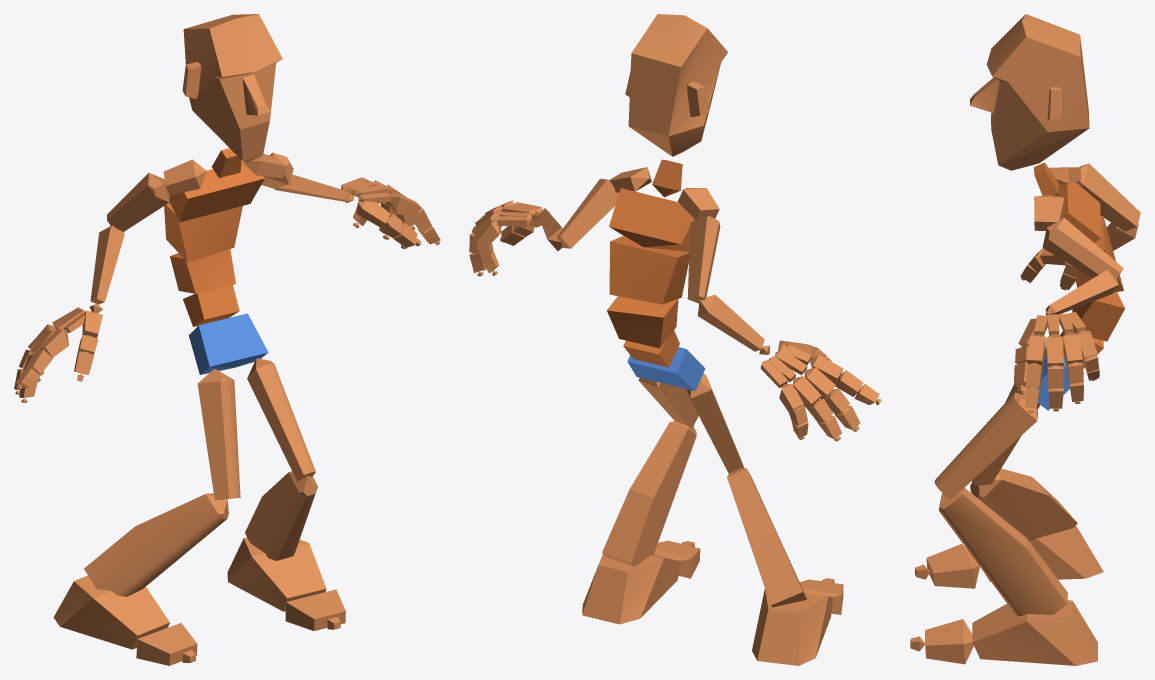
3 renders of one model, left to right at view 1: azimuth 30°, elevation 25°; view 2: azimuth 150°, elevation 25°; view 3: azimuth 270°, elevation 25°, orthographic. The views are drawn at different scales.
Parts seen in each view (by area): view 1: BOPED_Head, BOPED_R_leg, BOPED_R_foot, BOPED_R_foot01, BOPED_R_legup, BOPED_L_leg, BOPED_L_legup, Bone01, Bone04, Bone05, Bone03, BOPED_R_arm_upper (+8 smaller); view 2: BOPED_Head, BOPED_L_leg, BOPED_R_foot01, BOPED_R_foot, BOPED_R_leg, Bone04, Bone05, Bone03, BOPED_R_arm_upper, BOPED_R_legup, BOPED_L_arm_upper, Bone01 (+8 smaller); view 3: BOPED_Head, BOPED_L_leg, BOPED_R_foot01, BOPED_R_leg, BOPED_L_legup, BOPED_R_foot, BOPED_L_arm_upper, BOPED_R_arm_upper, BOPED_R_foot_toe01, BOPED_R_foot_toe04, Bone05, Bone03 (+14 smaller).
Part boxes in pixels (box(x1,y1,x2,y2)): BOPED_Head: box(182, 14, 282, 162); BOPED_R_leg: box(84, 493, 228, 596); BOPED_R_foot: box(53, 575, 169, 649); BOPED_R_foot01: box(227, 537, 326, 611); BOPED_R_legup: box(197, 369, 240, 500); BOPED_L_leg: box(245, 471, 317, 560); BOPED_L_legup: box(247, 358, 315, 481); Bone01: box(189, 313, 268, 374); Bone04: box(164, 202, 242, 262); Bone05: box(169, 161, 264, 222); Bone03: box(170, 249, 235, 293); BOPED_R_arm_upper: box(107, 173, 169, 231); BOPED_Head: box(625, 14, 727, 156); BOPED_L_leg: box(602, 421, 696, 566); BOPED_R_foot01: box(582, 554, 681, 624); BOPED_R_foot: box(752, 588, 832, 665); BOPED_R_leg: box(727, 467, 806, 607); Bone04: box(609, 236, 689, 304); Bone05: box(609, 188, 695, 251); Bone03: box(607, 296, 678, 348); BOPED_R_arm_upper: box(687, 215, 720, 303); BOPED_R_legup: box(686, 373, 743, 473); BOPED_L_arm_upper: box(557, 178, 619, 248); Bone01: box(627, 347, 705, 391); BOPED_Head: box(970, 14, 1089, 170); BOPED_L_leg: box(939, 487, 1067, 615); BOPED_R_foot01: box(972, 600, 1097, 665); BOPED_R_leg: box(970, 468, 1077, 541); BOPED_L_legup: box(934, 392, 1037, 499); BOPED_R_foot: box(985, 525, 1103, 581); BOPED_L_arm_upper: box(1042, 218, 1123, 278); BOPED_R_arm_upper: box(1076, 163, 1140, 231); BOPED_R_foot_toe01: box(926, 544, 979, 588); BOPED_R_foot_toe04: box(925, 619, 973, 664); Bone05: box(1057, 182, 1101, 242); Bone03: box(1072, 292, 1125, 341).
Bounding box in the file's own units: 130 × 176 × 60.56.
